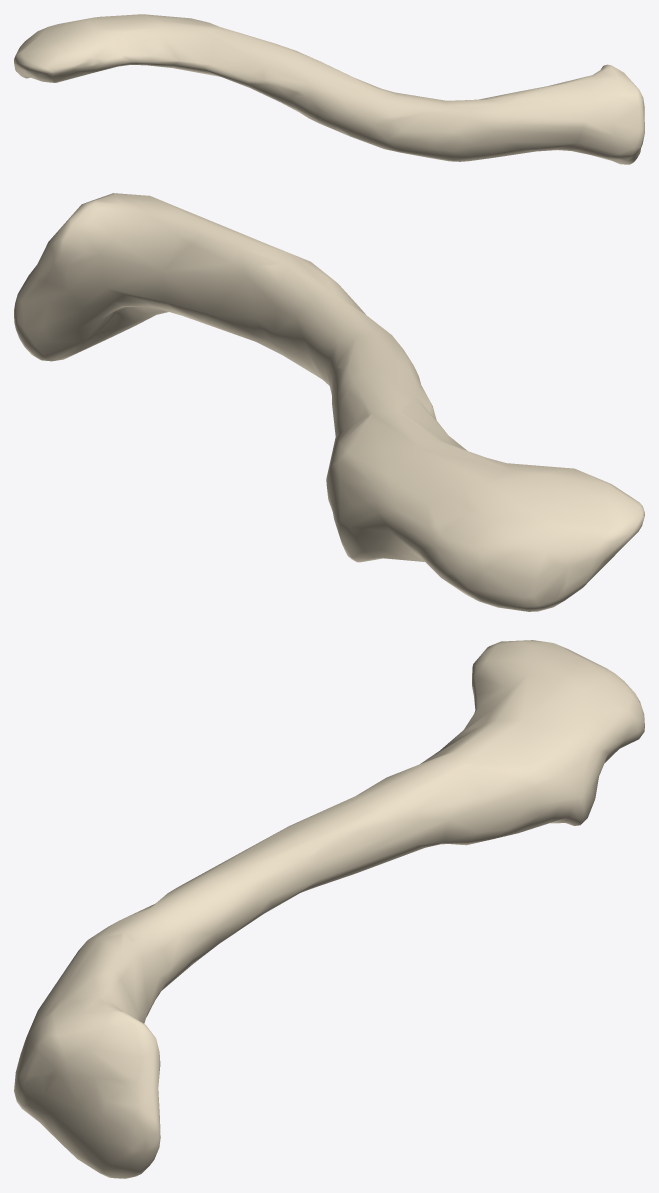
The model's file is clavicle-r.glb.
The picture shows the model from 3 angles, top to bottom: view 1: azimuth 30°, elevation 25°; view 2: azimuth 150°, elevation 25°; view 3: azimuth 270°, elevation 25°; orthographic projection. The views are drawn at different scales.
Parts seen in each view (by area): view 1: Clavicle.r; view 2: Clavicle.r; view 3: Clavicle.r.
Boxes of the visible parts, x1,y1,x2,y2 form: Clavicle.r: (14, 14, 644, 164); Clavicle.r: (14, 193, 644, 611); Clavicle.r: (14, 640, 644, 1178).
Size of the model in its own units: 0.1431 by 0.0361 by 0.1028.
